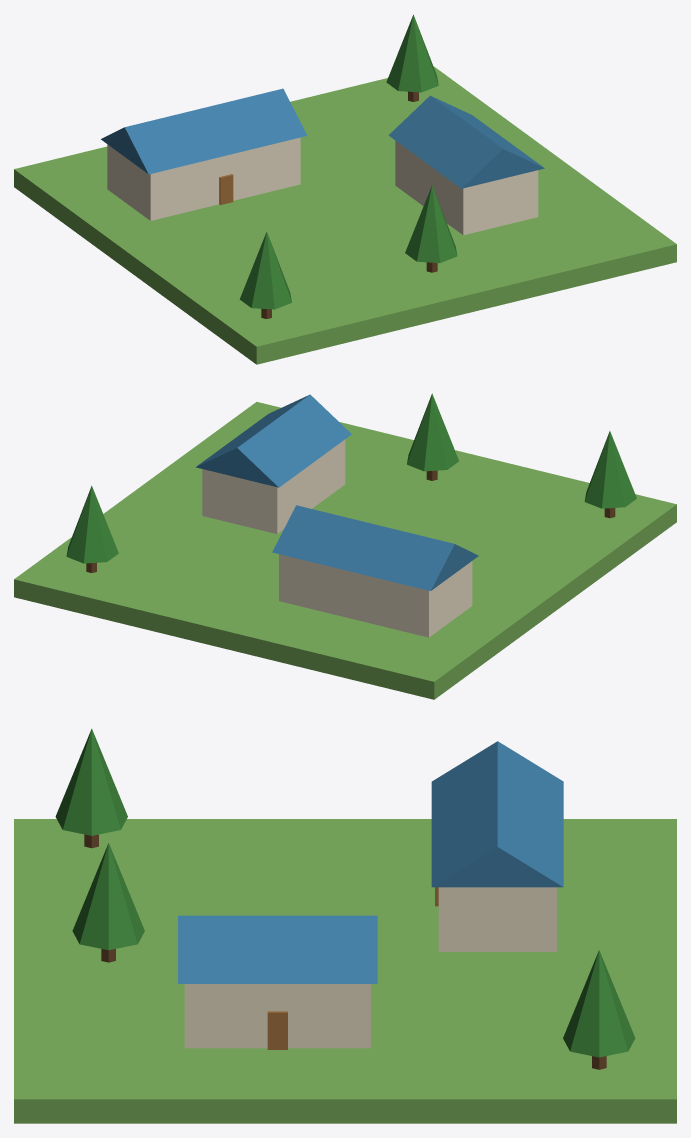
Rendered from tourism_income_2.glb.
The picture shows the model from 3 angles, top to bottom: view 1: azimuth 30°, elevation 25°; view 2: azimuth 150°, elevation 25°; view 3: azimuth 270°, elevation 25°; orthographic projection. The views are drawn at different scales.
Parts seen in each view (by area): view 1: tourism_income_2; view 2: tourism_income_2; view 3: tourism_income_2.
Part boxes in pixels (box(x1,y1,x2,y2)): tourism_income_2: box(14, 14, 676, 364); tourism_income_2: box(14, 393, 676, 699); tourism_income_2: box(14, 728, 676, 1123).
Size of the model in its own units: 1.96 by 0.46 by 1.96.
